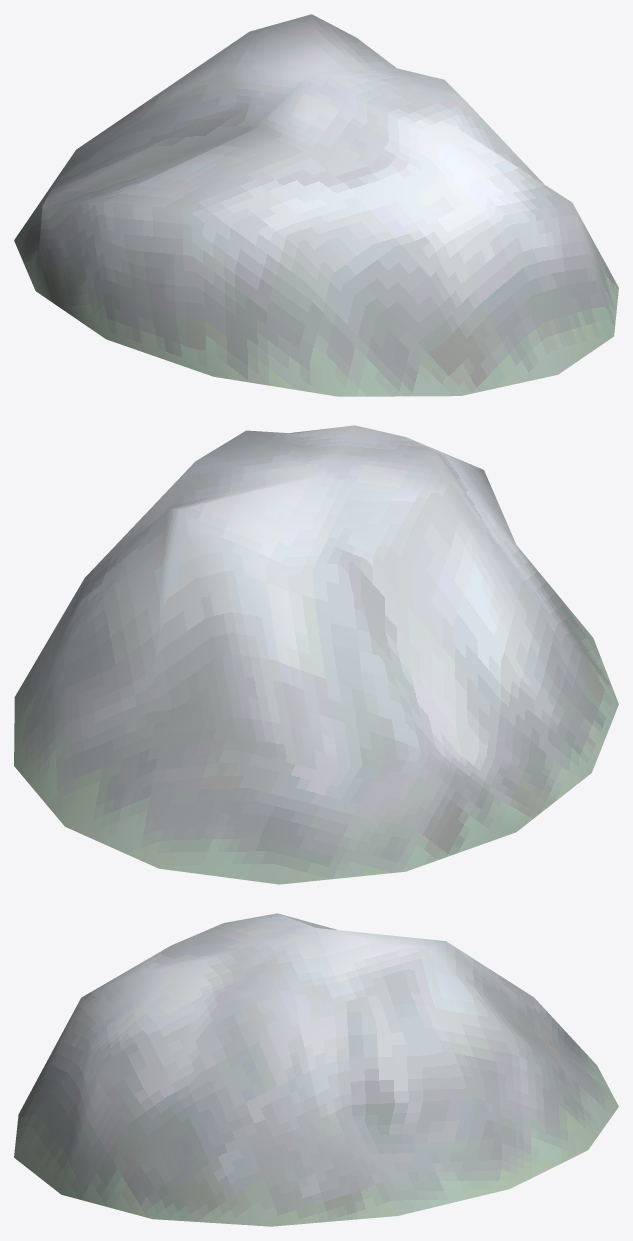
File: TROLLHOLE02_STONEA05.fbx
3 renders of one model, top to bottom at view 1: azimuth 30°, elevation 25°; view 2: azimuth 150°, elevation 25°; view 3: azimuth 270°, elevation 25°, orthographic. The views are drawn at different scales.
Visible parts, largest first — view 1: TROLLHOLE02_STONEA05; view 2: TROLLHOLE02_STONEA05; view 3: TROLLHOLE02_STONEA05.
Part boxes in pixels (bbox=[...]): TROLLHOLE02_STONEA05: bbox=[14, 14, 618, 396]; TROLLHOLE02_STONEA05: bbox=[14, 425, 618, 884]; TROLLHOLE02_STONEA05: bbox=[14, 913, 618, 1226].
Bounding box in the file's own units: 14001 × 6023 × 17129.
1 material, 1 textured.
